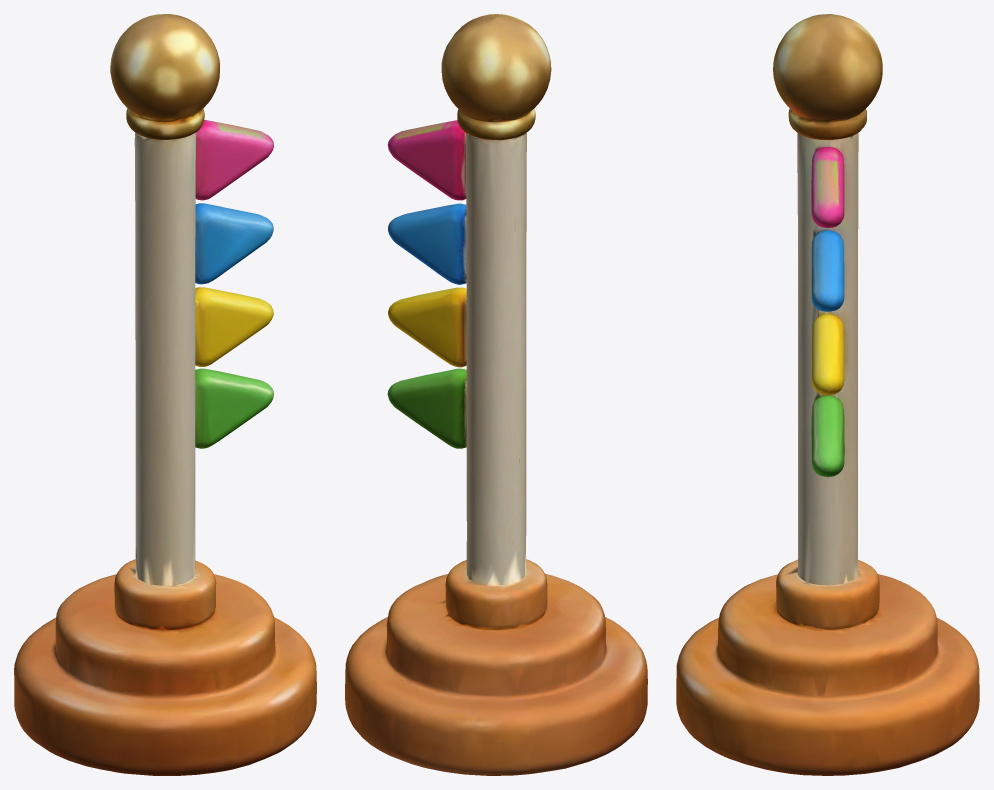
The model's file is team-flagpole.glb.
3 renders of one model, left to right at view 1: azimuth 30°, elevation 25°; view 2: azimuth 150°, elevation 25°; view 3: azimuth 270°, elevation 25°, orthographic.
Parts seen in each view (by area): view 1: tripo_node_68dac811-7f3c-4b89-9ffa-64b9f9a3621f; view 2: tripo_node_68dac811-7f3c-4b89-9ffa-64b9f9a3621f; view 3: tripo_node_68dac811-7f3c-4b89-9ffa-64b9f9a3621f.
Boxes of the visible parts, bbox=[...] form: tripo_node_68dac811-7f3c-4b89-9ffa-64b9f9a3621f: bbox=[14, 14, 316, 775]; tripo_node_68dac811-7f3c-4b89-9ffa-64b9f9a3621f: bbox=[345, 14, 647, 775]; tripo_node_68dac811-7f3c-4b89-9ffa-64b9f9a3621f: bbox=[676, 14, 979, 775].
Size of the model in its own units: 0.3919 by 1 by 0.3919.
Materials: 1 (1 with a texture image).
